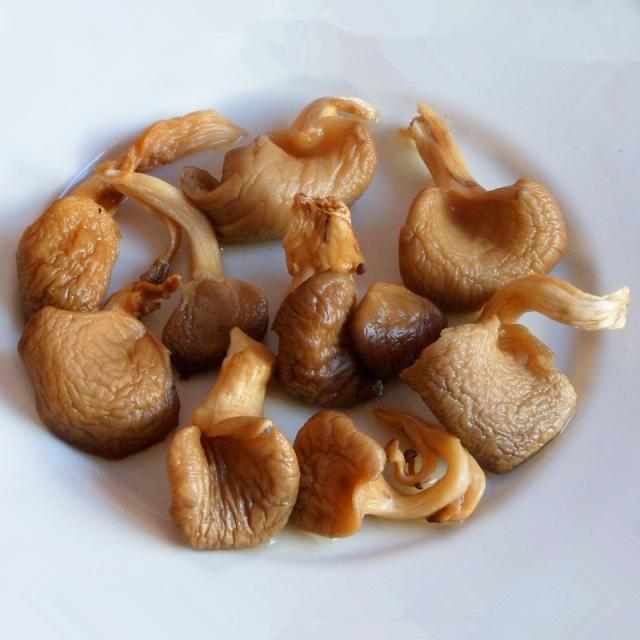Hypsizygus marmoreus: (19, 111, 245, 308), (18, 204, 184, 455), (419, 277, 634, 466), (95, 168, 271, 374), (272, 189, 441, 394), (403, 104, 567, 310), (169, 324, 299, 552), (187, 99, 377, 243), (295, 409, 489, 537)
